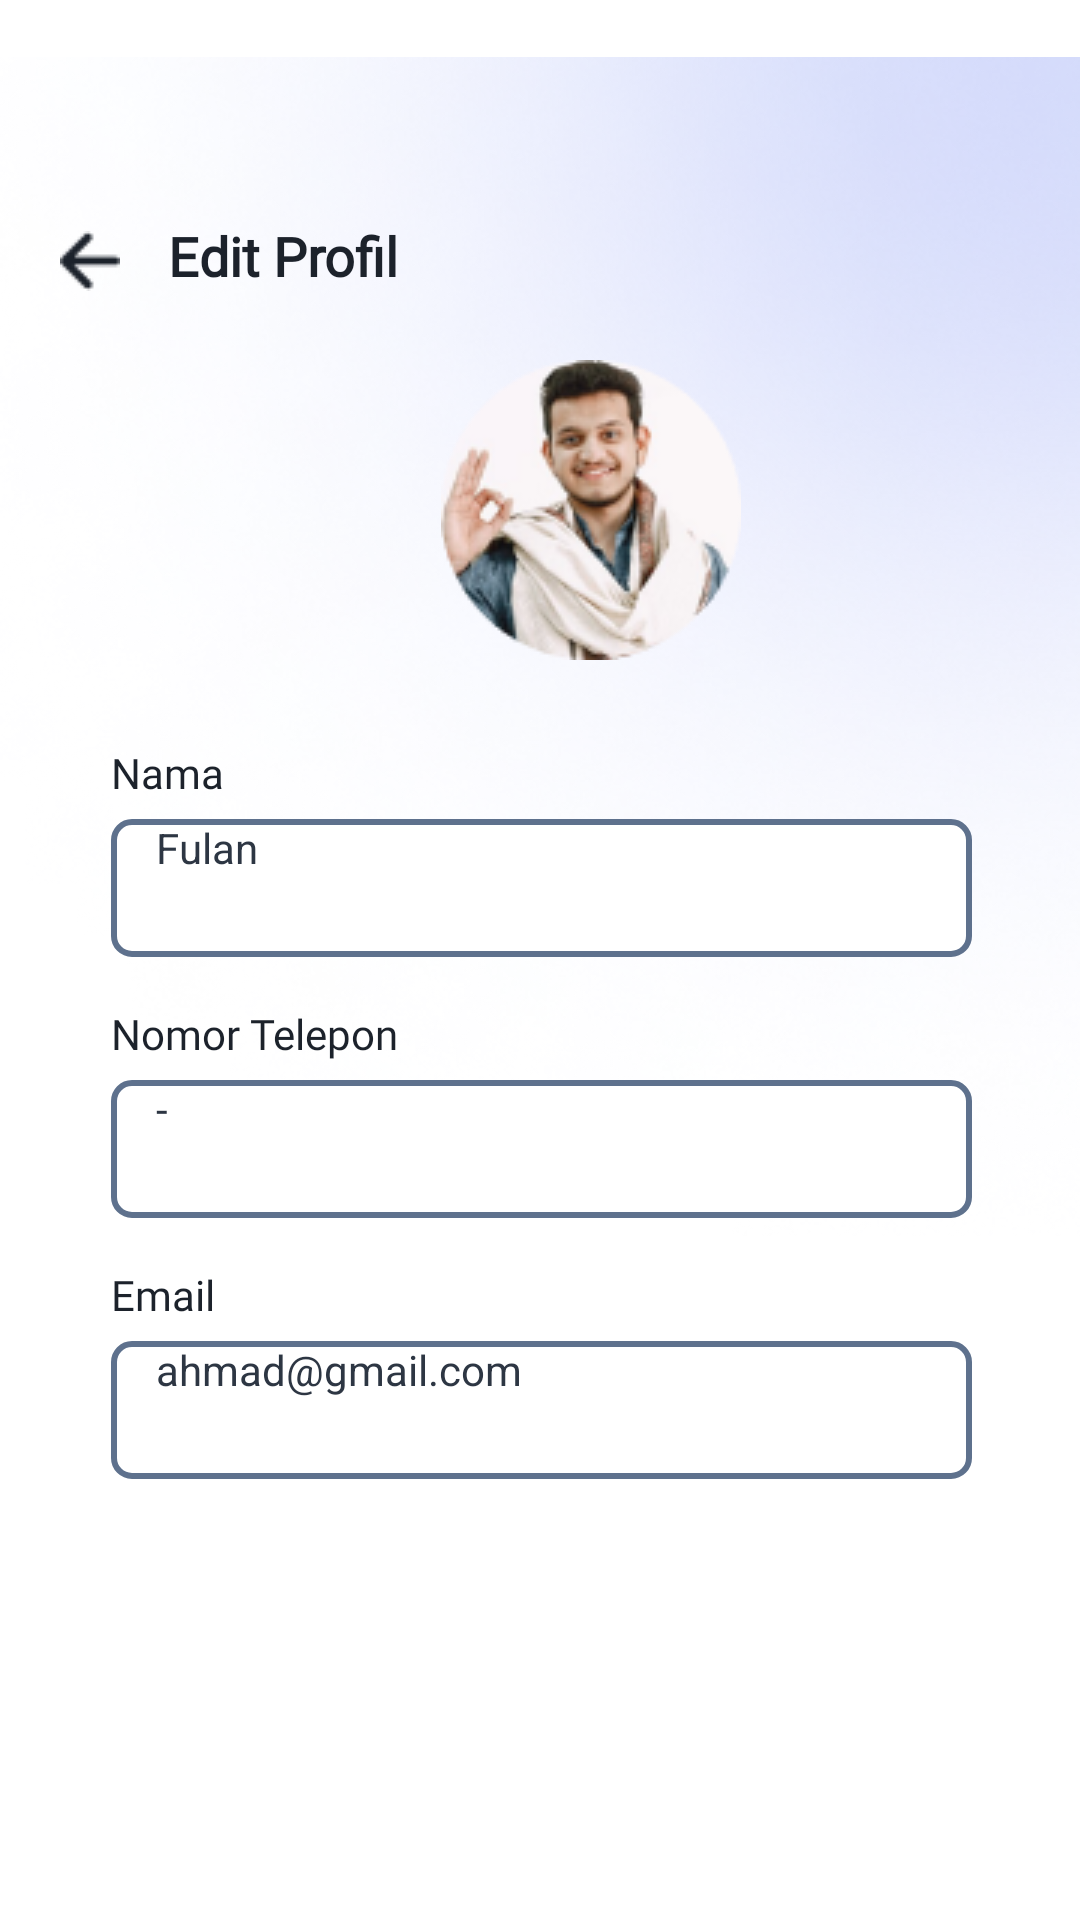

Locate icon controls on the screen. Image size 1080px x 1920px, boxes as box(x1, y1, x2, y2).
arrowback: box(60, 231, 120, 291)
ppfulan: box(441, 360, 729, 660)
